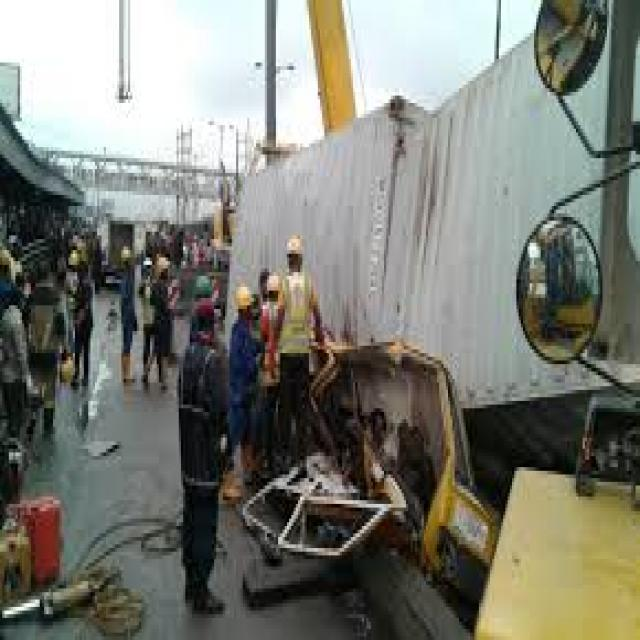accident: (236, 186, 540, 640)
